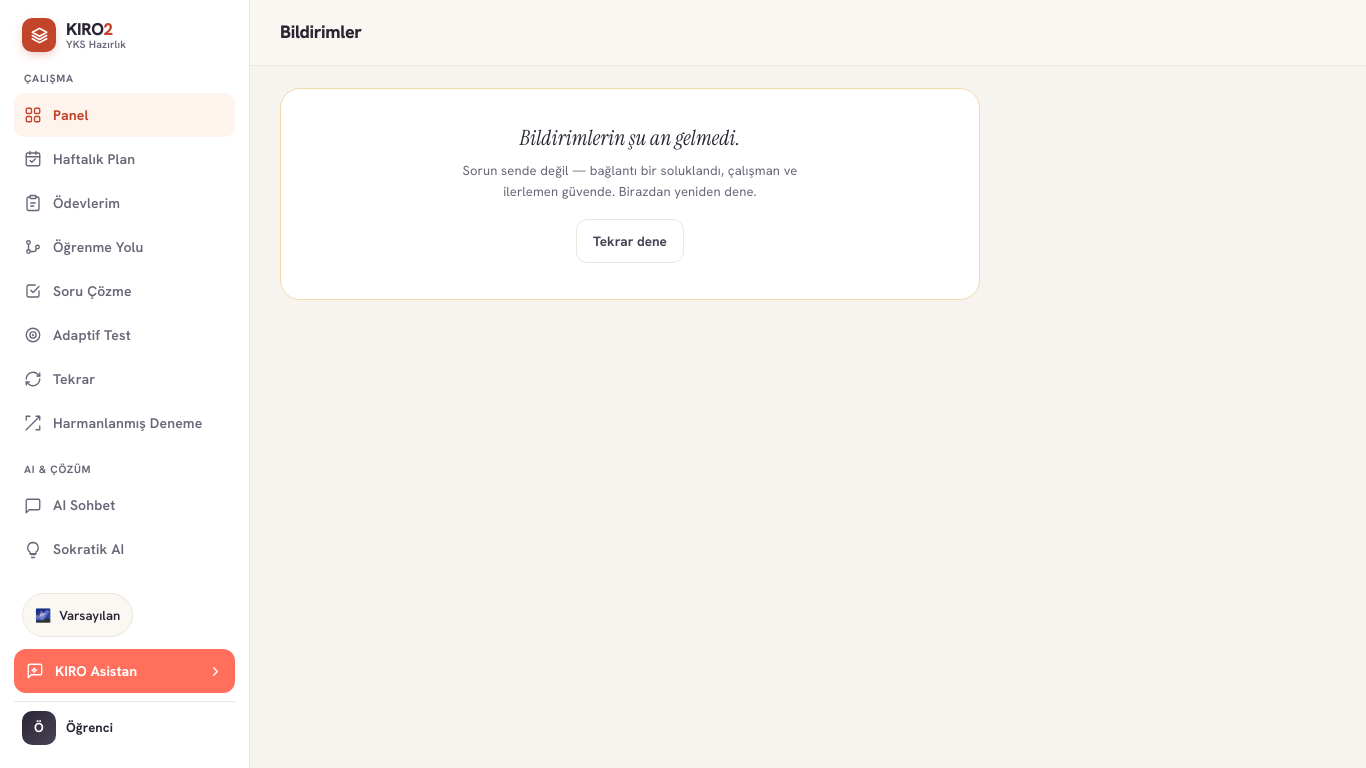
it: BildirimMerkeziPage › getBildirimler reddi ErrorState açar; retry sonrası liste döner
Expected: the text "Bildirimlerin şu an gelmedi." is shown, [520,125,740,151]
Expected: the text "3 kartın bugün tekrar zamanında" is not shown
What coordinates should you click on to do the following:
click the button "Tekrar dene"
I would click on:
 (630, 241)
Its box is [576,219,684,263].
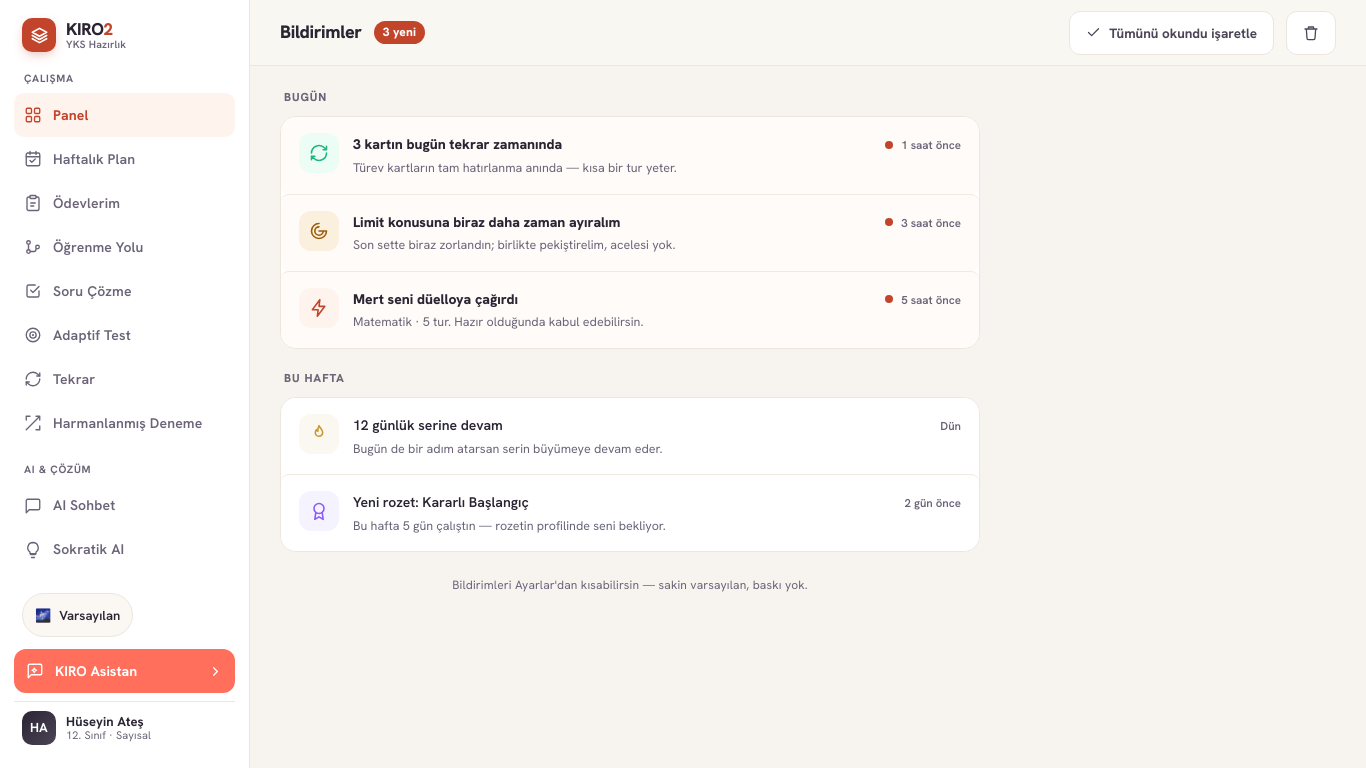
Now the text "3 kartın bugün tekrar zamanında" is shown, box [353,135,562,153]
Now the text "Bildirimlerin şu an gelmedi." is gone
